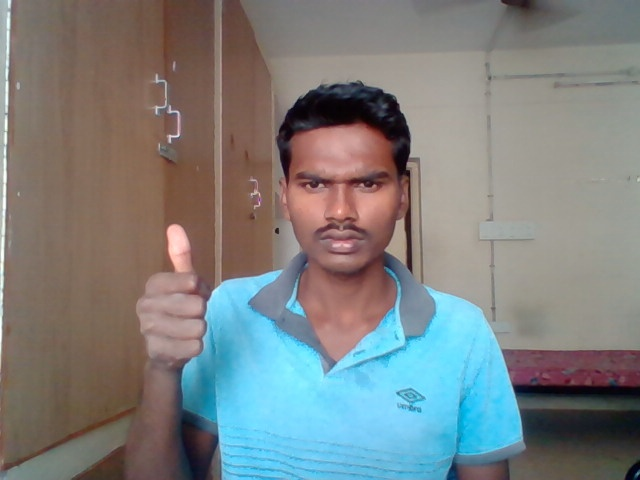Yes: (134, 223, 208, 370)
